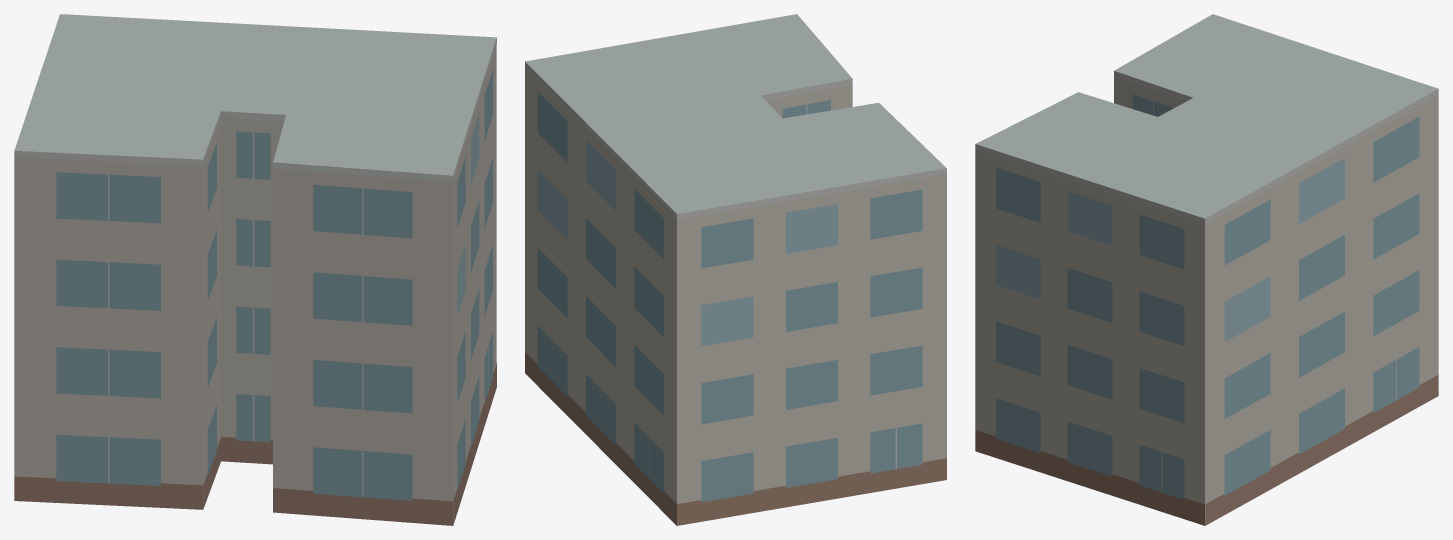
The model's file is survey-upis-32865671.glb.
The picture shows the model from 3 angles, left to right: view 1: azimuth 30°, elevation 25°; view 2: azimuth 150°, elevation 25°; view 3: azimuth 270°, elevation 25°; orthographic projection. The views are drawn at different scales.
Parts seen in each view (by area): view 1: survey-upis-32865671.tmp; view 2: survey-upis-32865671.tmp; view 3: survey-upis-32865671.tmp.
Boxes of the visible parts, left/top/right/bottom form: survey-upis-32865671.tmp: left=14, top=14, right=496, bottom=525; survey-upis-32865671.tmp: left=525, top=14, right=946, bottom=525; survey-upis-32865671.tmp: left=975, top=14, right=1438, bottom=525.
Size of the model in its own units: 19.1 by 13.36 by 18.27.
